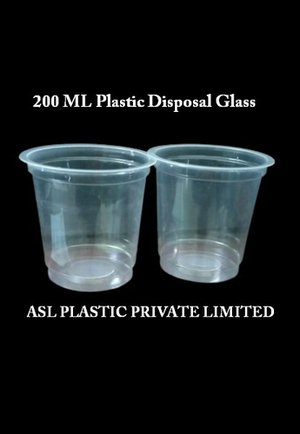plastic_glass: (16, 140, 158, 295), (144, 135, 282, 287)
